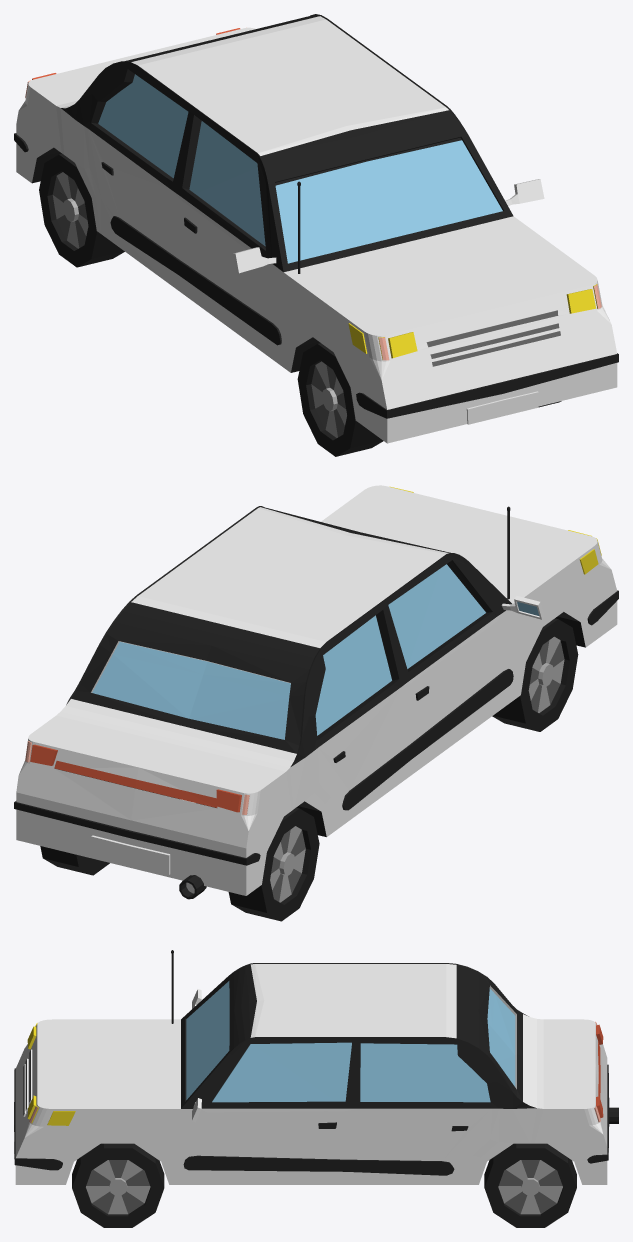
The model's file is normal-car-2.gltf.
The picture shows the model from 3 angles, top to bottom: view 1: azimuth 30°, elevation 25°; view 2: azimuth 150°, elevation 25°; view 3: azimuth 270°, elevation 25°; orthographic projection. The views are drawn at different scales.
Visible parts, largest first — view 1: chassis, extra-car-stuff, front-right-tire, back-right-tire; view 2: chassis, extra-car-stuff, back-right-tire, front-right-tire, back-left-tire; view 3: chassis, extra-car-stuff, front-left-tire, back-left-tire.
Part boxes in pixels (x1,y1,x2,y2): chassis: (14, 14, 618, 443); extra-car-stuff: (25, 27, 601, 424); front-right-tire: (297, 343, 383, 456); back-right-tire: (39, 153, 124, 267); chassis: (14, 485, 618, 895); extra-car-stuff: (25, 486, 601, 899); back-right-tire: (228, 807, 319, 921); front-right-tire: (492, 618, 578, 731); back-left-tire: (40, 846, 109, 875); chassis: (14, 963, 609, 1184); extra-car-stuff: (14, 950, 618, 1153); front-left-tire: (72, 1143, 164, 1227); back-left-tire: (484, 1143, 576, 1227).
Size of the model in its own units: 4.31 by 3.26 by 9.26.
Materials: 2 (2 with a texture image).
